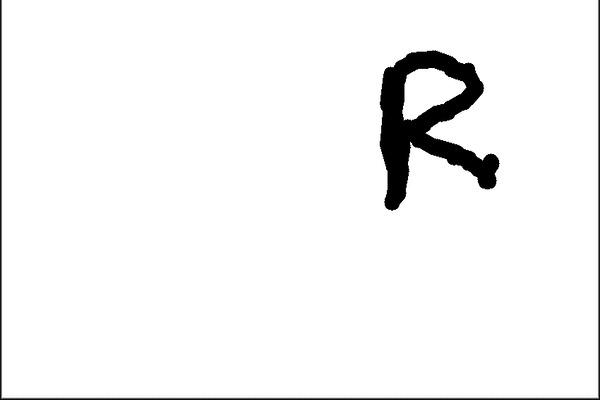R: (365, 38, 509, 218)
